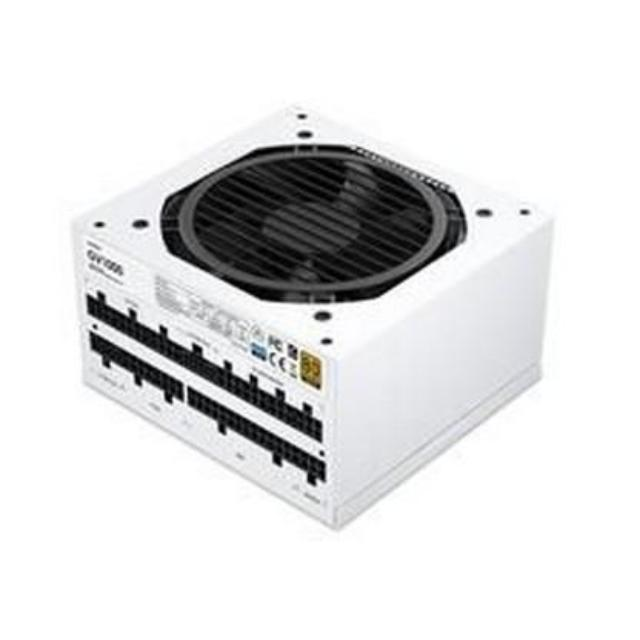PSU: (62, 78, 564, 553)
